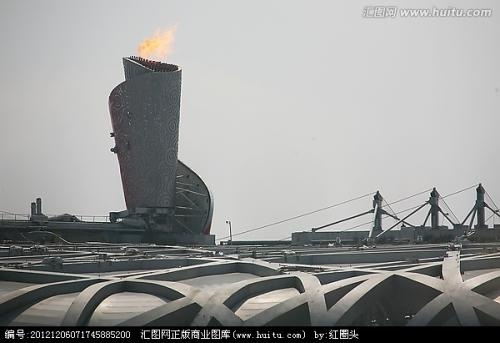fire: (136, 21, 178, 60)
